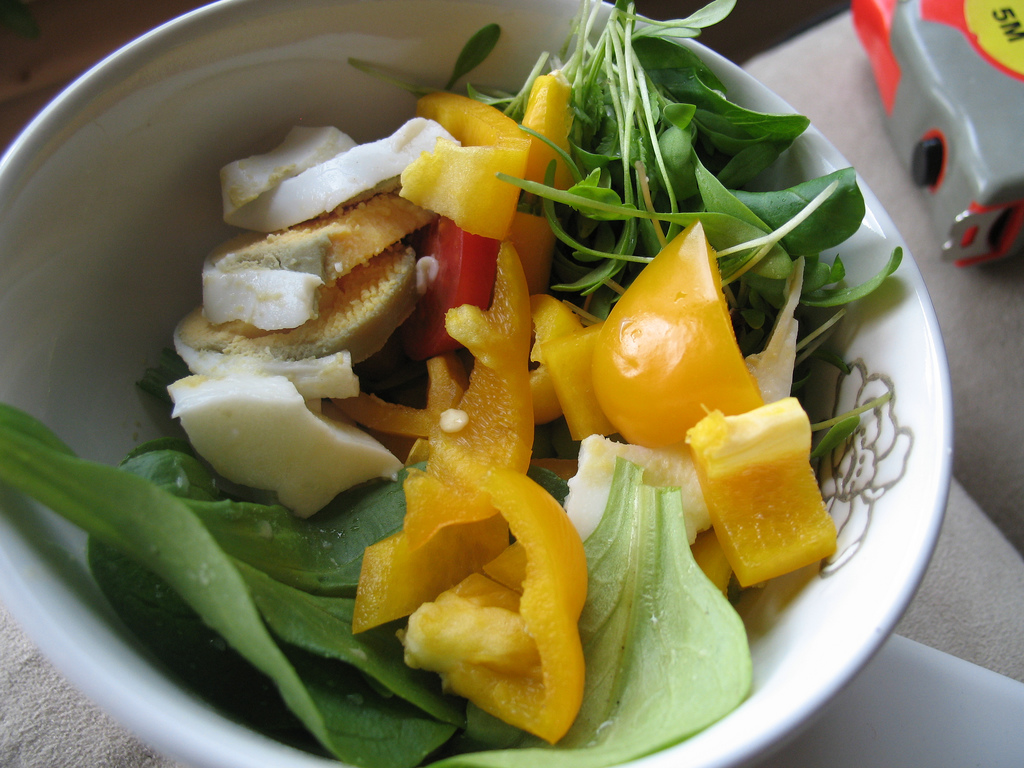chopped lettuce: (70, 450, 358, 661), (604, 58, 773, 230)
